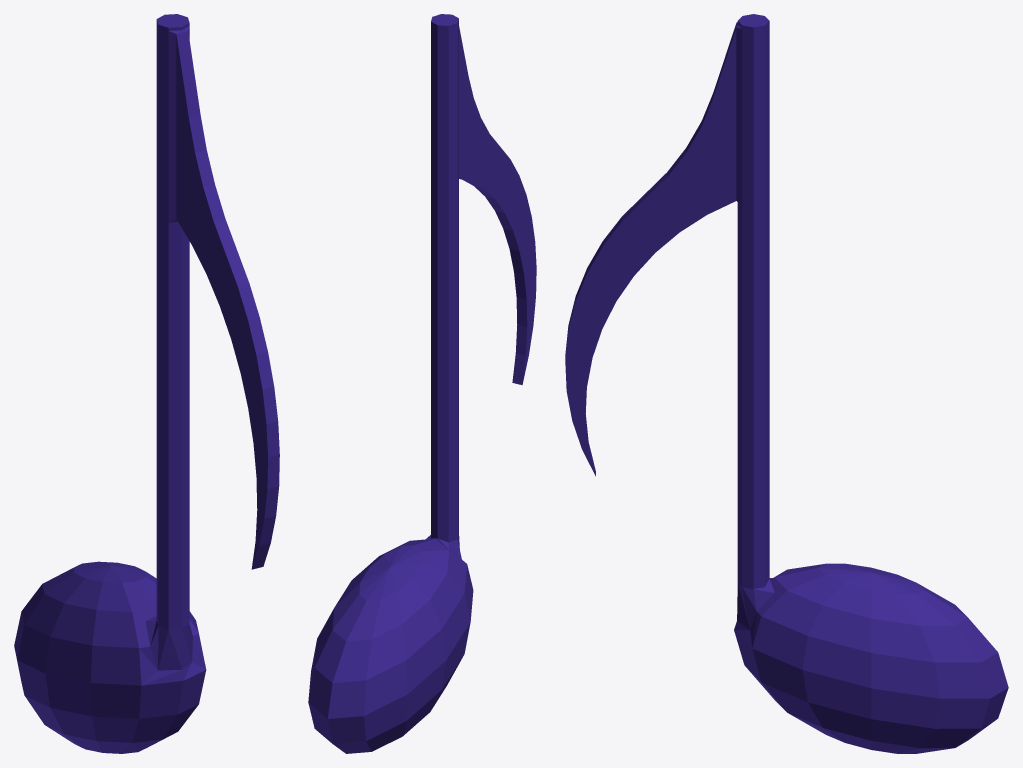
File: music1.obj
3 renders of one model, left to right at view 1: azimuth 30°, elevation 25°; view 2: azimuth 150°, elevation 25°; view 3: azimuth 270°, elevation 25°, orthographic. The views are drawn at different scales.
Parts seen in each view (by area): view 1: Mesh_Mesh_MusicNote; view 2: Mesh_Mesh_MusicNote; view 3: Mesh_Mesh_MusicNote.
Part boxes in pixels (bbox=[...]): Mesh_Mesh_MusicNote: bbox=[14, 14, 279, 753]; Mesh_Mesh_MusicNote: bbox=[308, 14, 536, 753]; Mesh_Mesh_MusicNote: bbox=[565, 14, 1008, 753].
Size of the model in its own units: 2.2 by 12.65 by 6.97.
